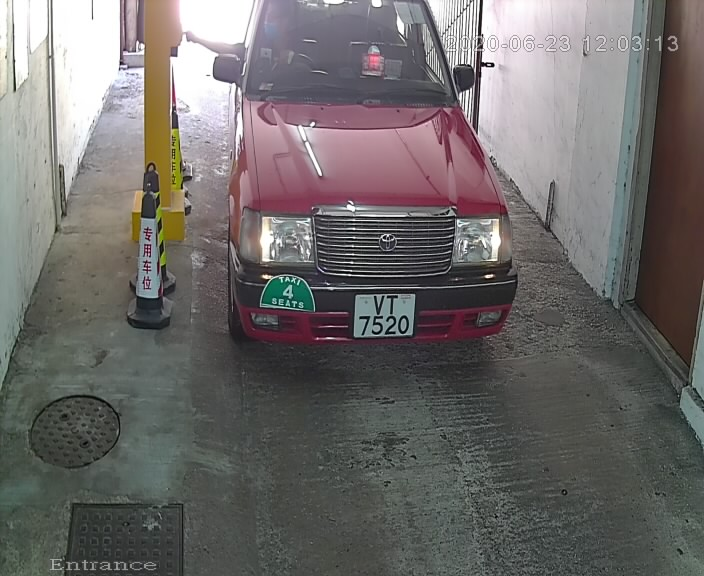taxi: (195, 1, 532, 378)
taxi_mark: (252, 263, 321, 327)
